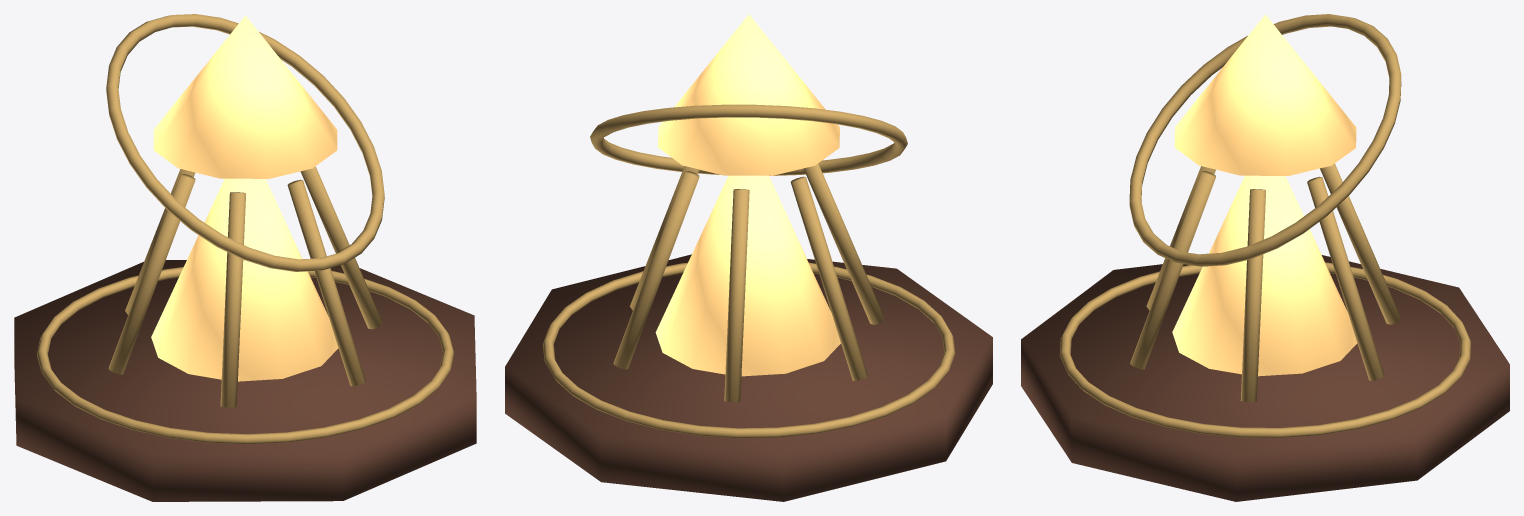
The picture shows the model from 3 angles, left to right: view 1: azimuth 30°, elevation 25°; view 2: azimuth 150°, elevation 25°; view 3: azimuth 270°, elevation 25°; orthographic projection.
Visible parts, largest first — view 1: Hexagonal plinth, Lower crystal, Upper crystal, Orbit, Inlaid rim, Brass setting.005, Brass setting.004, Brass setting.003, Brass setting, Brass setting.002; view 2: Hexagonal plinth, Lower crystal, Upper crystal, Inlaid rim, Orbit, Brass setting.002, Brass setting.003, Brass setting.001, Brass setting.004, Brass setting; view 3: Hexagonal plinth, Lower crystal, Upper crystal, Orbit, Inlaid rim, Brass setting, Brass setting.001, Brass setting.005, Brass setting.002, Brass setting.004.
Boxes of the visible parts, box(x1,y1,x2,y2) form: Hexagonal plinth: box(14, 260, 476, 501); Lower crystal: box(151, 178, 338, 381); Upper crystal: box(153, 15, 337, 178); Orbit: box(106, 14, 384, 271); Inlaid rim: box(37, 267, 453, 444); Brass setting.005: box(287, 179, 365, 386); Brass setting.004: box(220, 192, 245, 407); Brass setting.003: box(108, 173, 195, 374); Brass setting: box(300, 166, 382, 329); Brass setting.002: box(125, 169, 195, 314); Hexagonal plinth: box(505, 254, 992, 501); Lower crystal: box(655, 175, 840, 376); Upper crystal: box(658, 14, 839, 175); Inlaid rim: box(542, 262, 955, 438); Orbit: box(590, 104, 907, 175); Brass setting.002: box(724, 189, 749, 402); Brass setting.003: box(790, 176, 867, 380); Brass setting.001: box(613, 171, 699, 369); Brass setting.004: box(803, 163, 884, 324); Brass setting: box(630, 166, 699, 310); Hexagonal plinth: box(1021, 255, 1509, 501); Lower crystal: box(1172, 175, 1357, 376); Upper crystal: box(1174, 14, 1356, 175); Orbit: box(1129, 14, 1401, 266); Inlaid rim: box(1059, 262, 1471, 437); Brass setting: box(1240, 189, 1265, 401); Brass setting.001: box(1307, 176, 1384, 380); Brass setting.005: box(1130, 171, 1215, 369); Brass setting.002: box(1320, 163, 1400, 324); Brass setting.004: box(1146, 166, 1215, 310).
Bounding box in the file's own units: 1.51 × 1.31 × 1.51.
